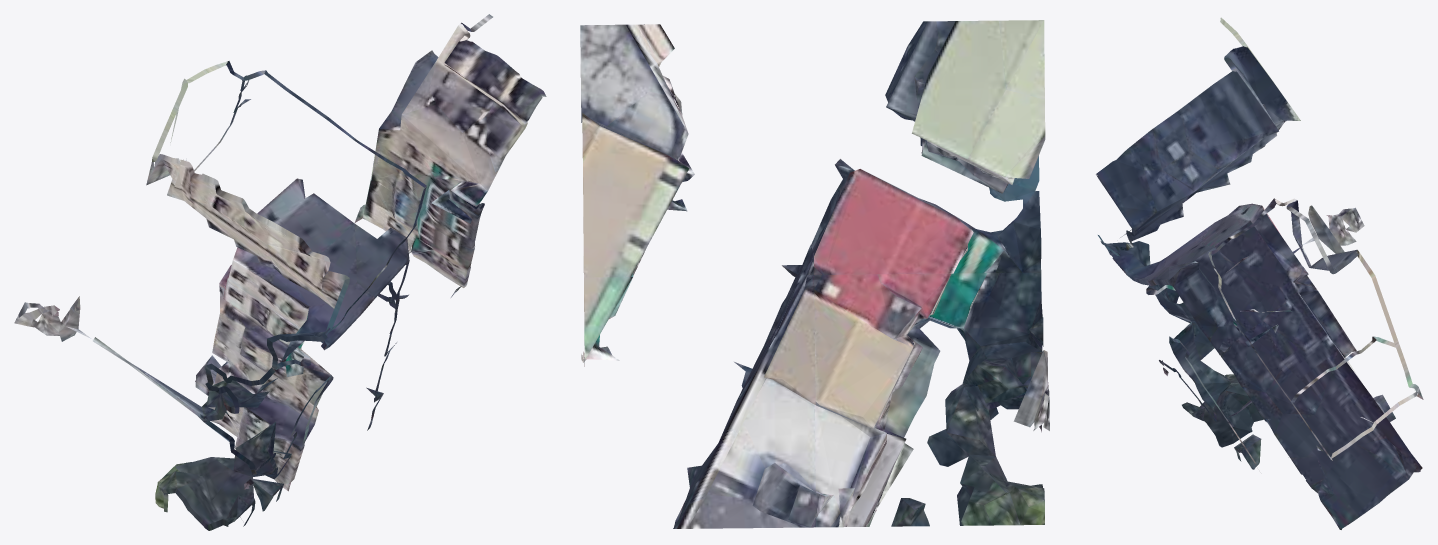
3 renders of one model, left to right at view 1: azimuth 30°, elevation 25°; view 2: azimuth 150°, elevation 25°; view 3: azimuth 270°, elevation 25°, orthographic. The views are drawn at different scales.
Size of the model in its own units: 44.24 by 44.05 by 33.79.
2 materials, 2 textured.
